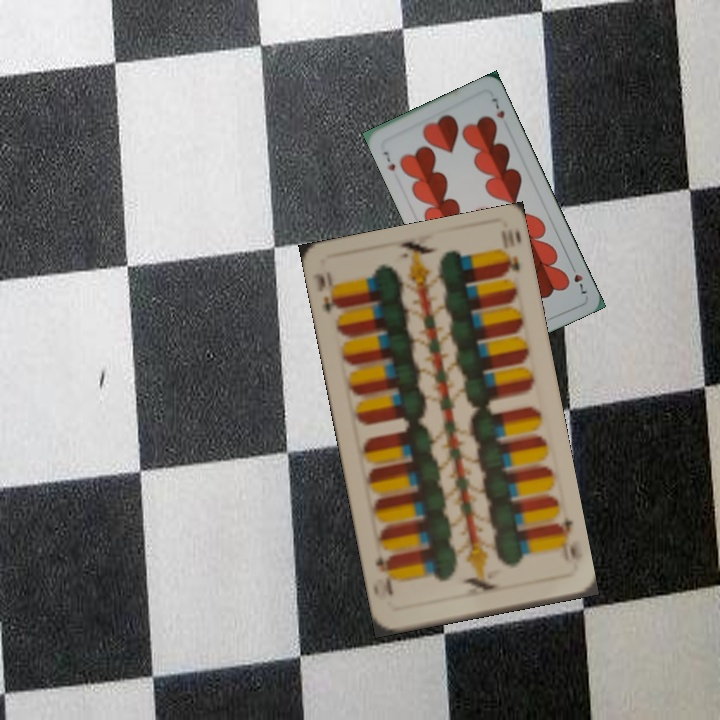E10: (549, 513, 584, 573), (311, 269, 345, 316)
H7: (566, 260, 590, 297), (379, 147, 398, 173)
